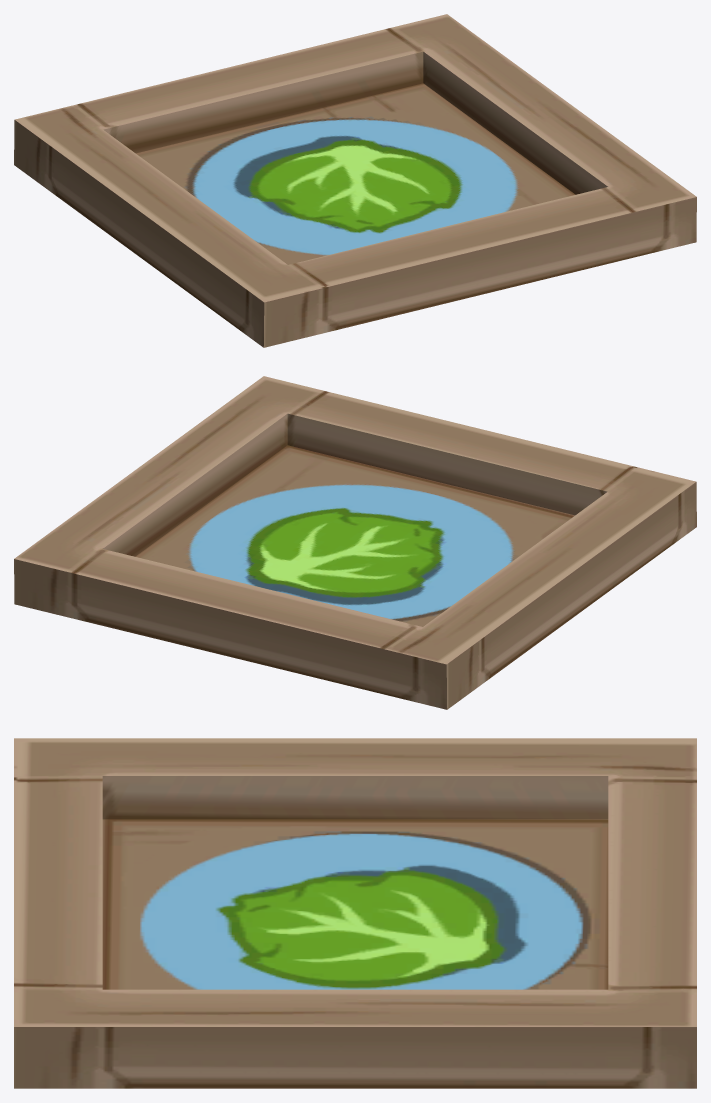
Rendered from CrateLid_Lettuce.obj.
The picture shows the model from 3 angles, top to bottom: view 1: azimuth 30°, elevation 25°; view 2: azimuth 150°, elevation 25°; view 3: azimuth 270°, elevation 25°; orthographic projection. The views are drawn at different scales.
Visible parts, largest first — view 1: CrateLid_mesh-sharedassets2.assets-136; view 2: CrateLid_mesh-sharedassets2.assets-136; view 3: CrateLid_mesh-sharedassets2.assets-136.
Part boxes in pixels (x1,y1,x2,y2): CrateLid_mesh-sharedassets2.assets-136: [14, 14, 696, 347]; CrateLid_mesh-sharedassets2.assets-136: [14, 376, 696, 709]; CrateLid_mesh-sharedassets2.assets-136: [14, 738, 696, 1088].
Size of the model in its own units: 1 by 0.1 by 1.
